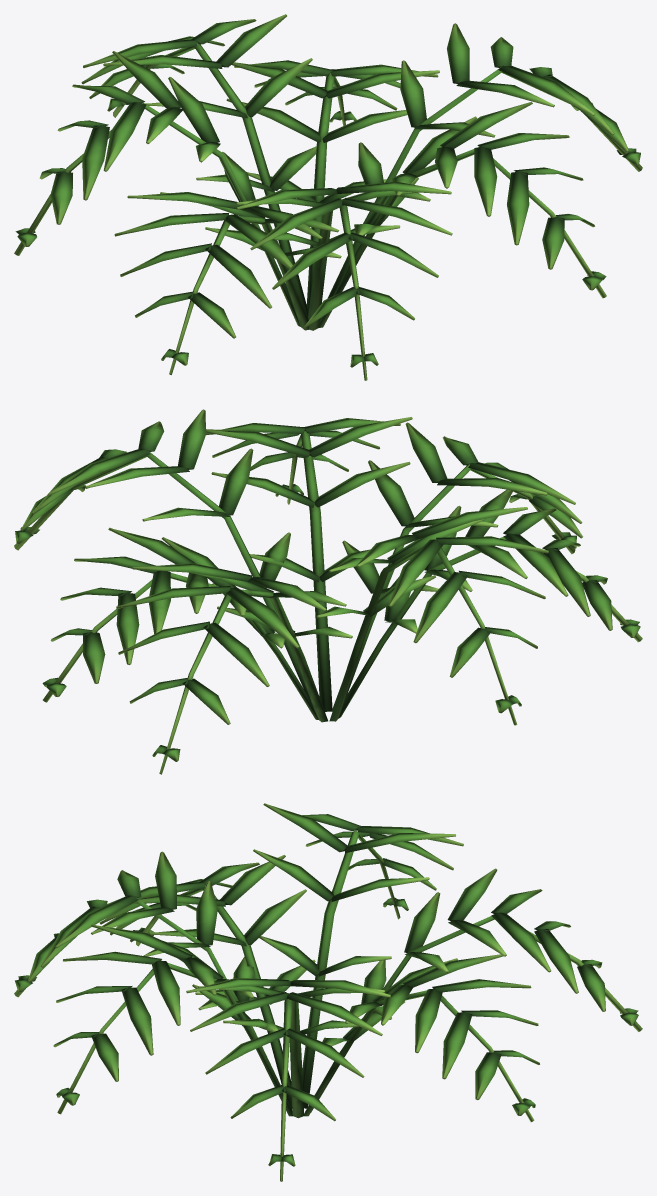
The model's file is Helecho.fbx.
3 views of the same model, one above another, from view 1: azimuth 30°, elevation 25°; view 2: azimuth 150°, elevation 25°; view 3: azimuth 270°, elevation 25° (orthographic). The views are drawn at different scales.
Visible parts, largest first — view 1: Malla; view 2: Malla; view 3: Malla.
Part boxes in pixels (bbox=[...]): Malla: bbox=[14, 14, 642, 380]; Malla: bbox=[14, 409, 642, 774]; Malla: bbox=[14, 803, 642, 1181].
Size of the model in its own units: 1.26 by 0.5121 by 1.29.
1 material, 1 textured.
